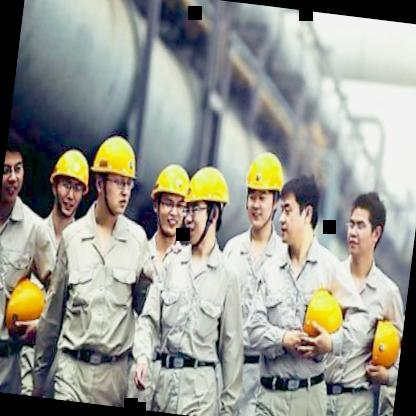head: (337, 187, 393, 264), (273, 169, 324, 250), (0, 135, 33, 205)
helmet: (82, 127, 144, 224), (178, 158, 234, 248), (236, 143, 289, 235), (144, 156, 197, 242), (43, 142, 94, 221)
